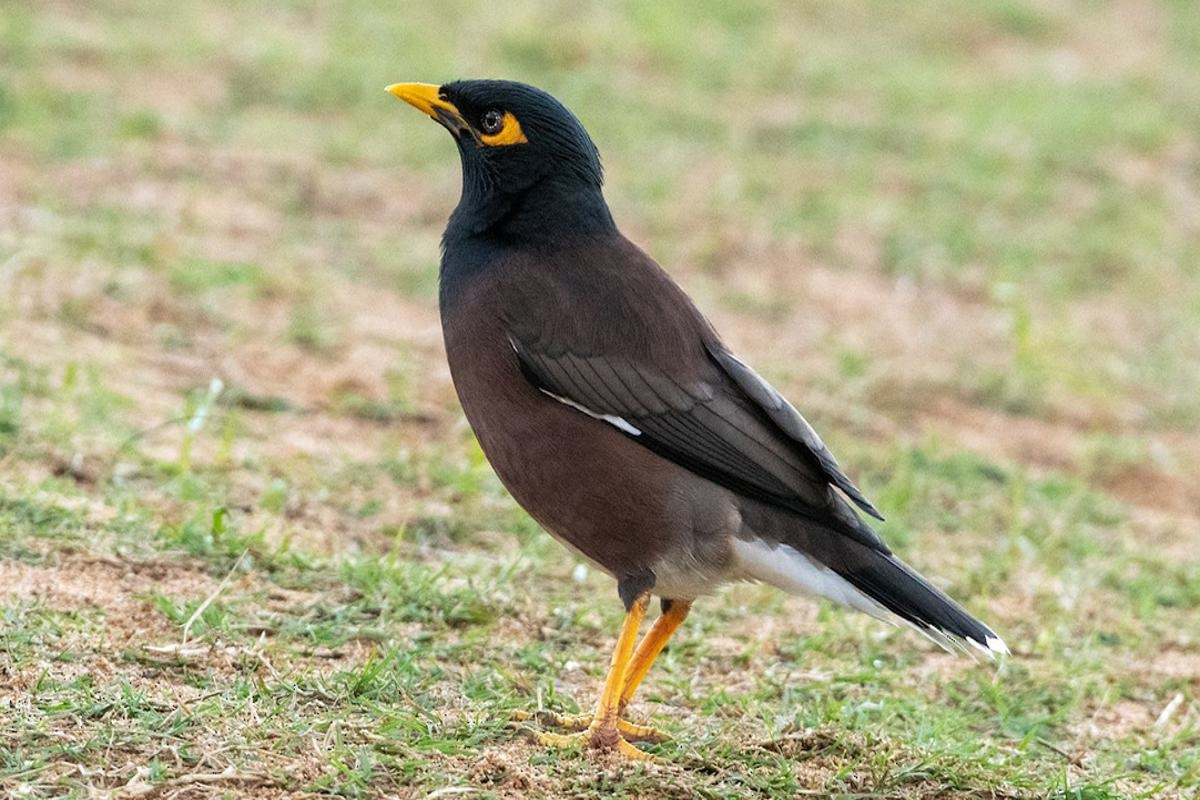myna: (371, 38, 950, 703)
